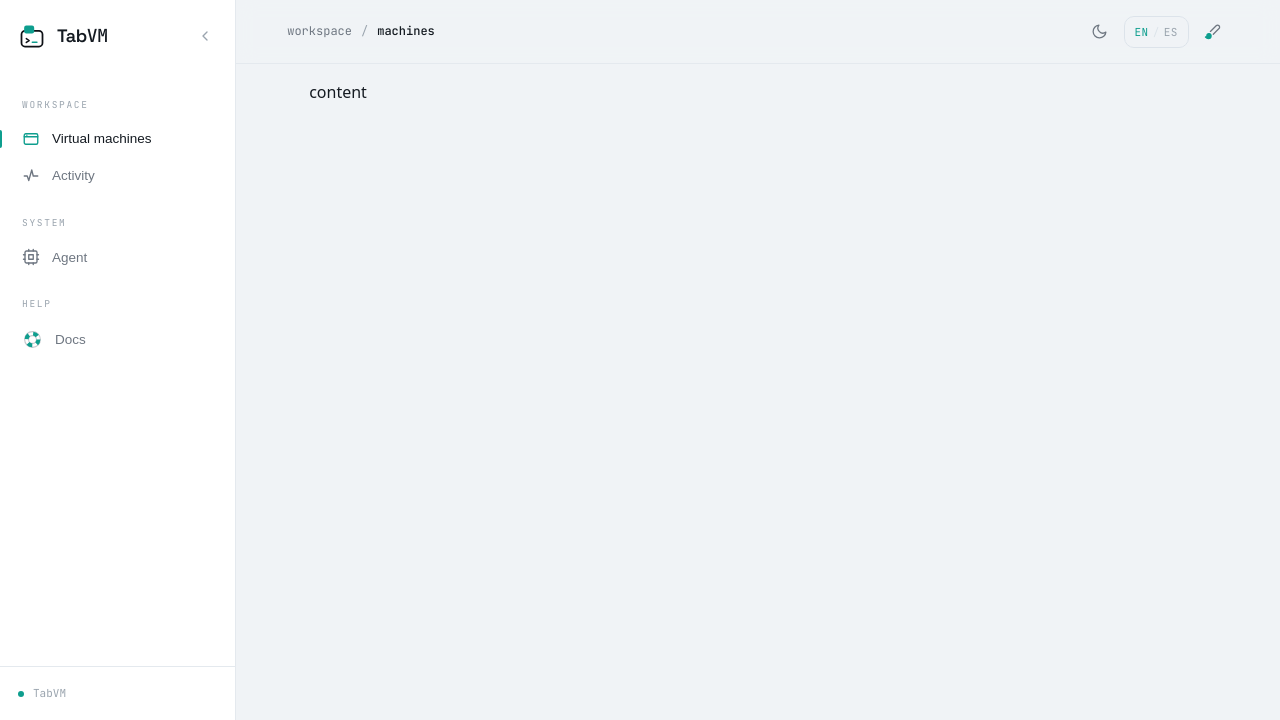
AppShell › exposes English aria-labels on the accent picker
Click the button named "Accent color" at [1213, 32], box [1197, 16, 1229, 48]
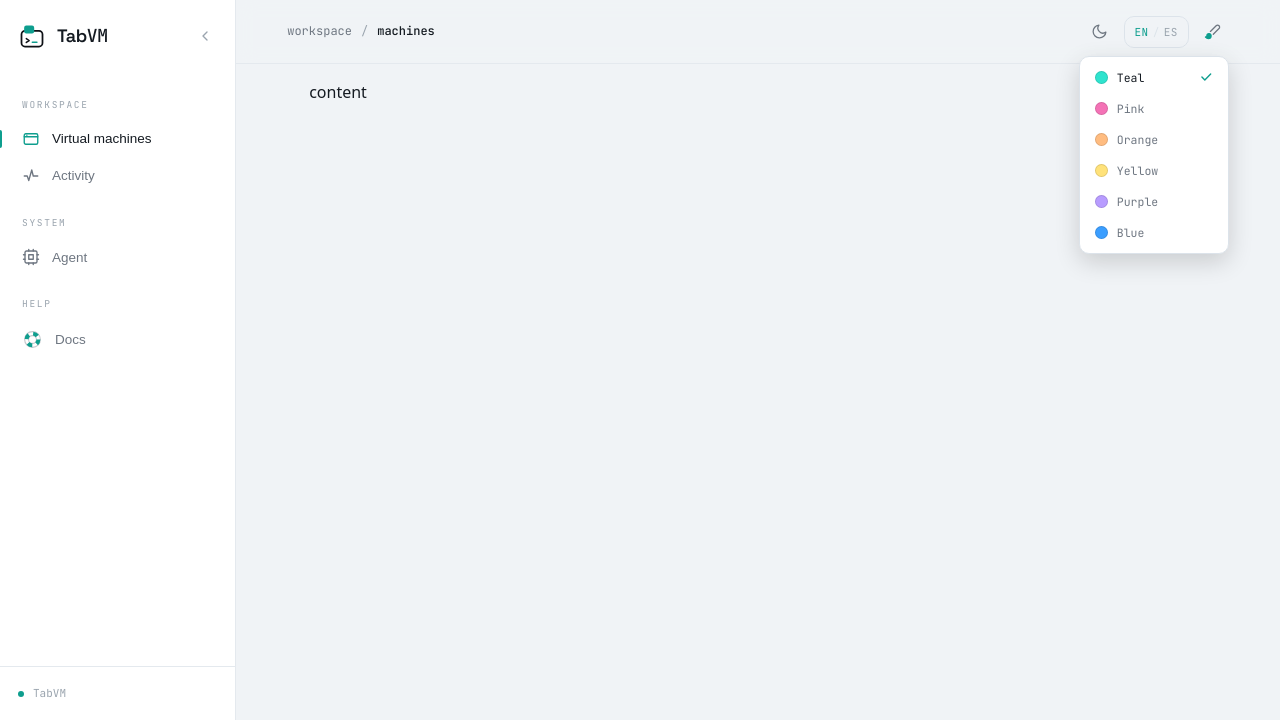
Expected: the menu item labelled "Teal" is shown, [1086, 62, 1222, 92]
Expected: the menu item labelled "Pink" is shown, [1086, 94, 1222, 122]
Expected: the menu item labelled "Orange" is shown, [1086, 124, 1222, 154]
